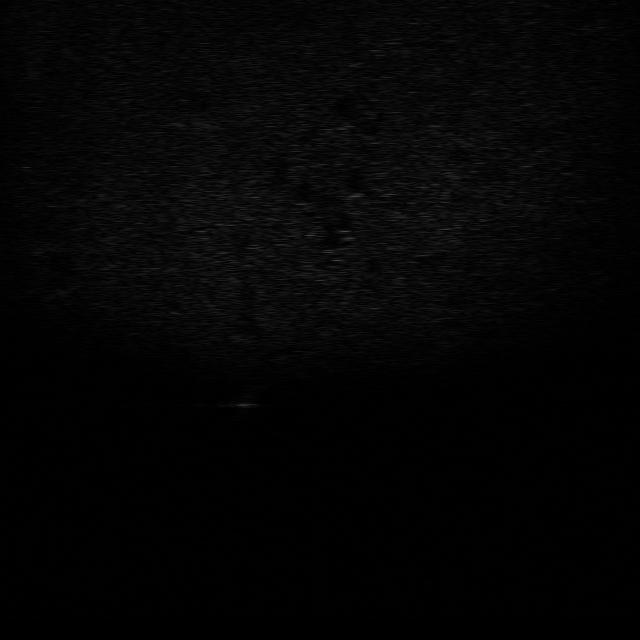human body: (225, 382, 263, 428)
